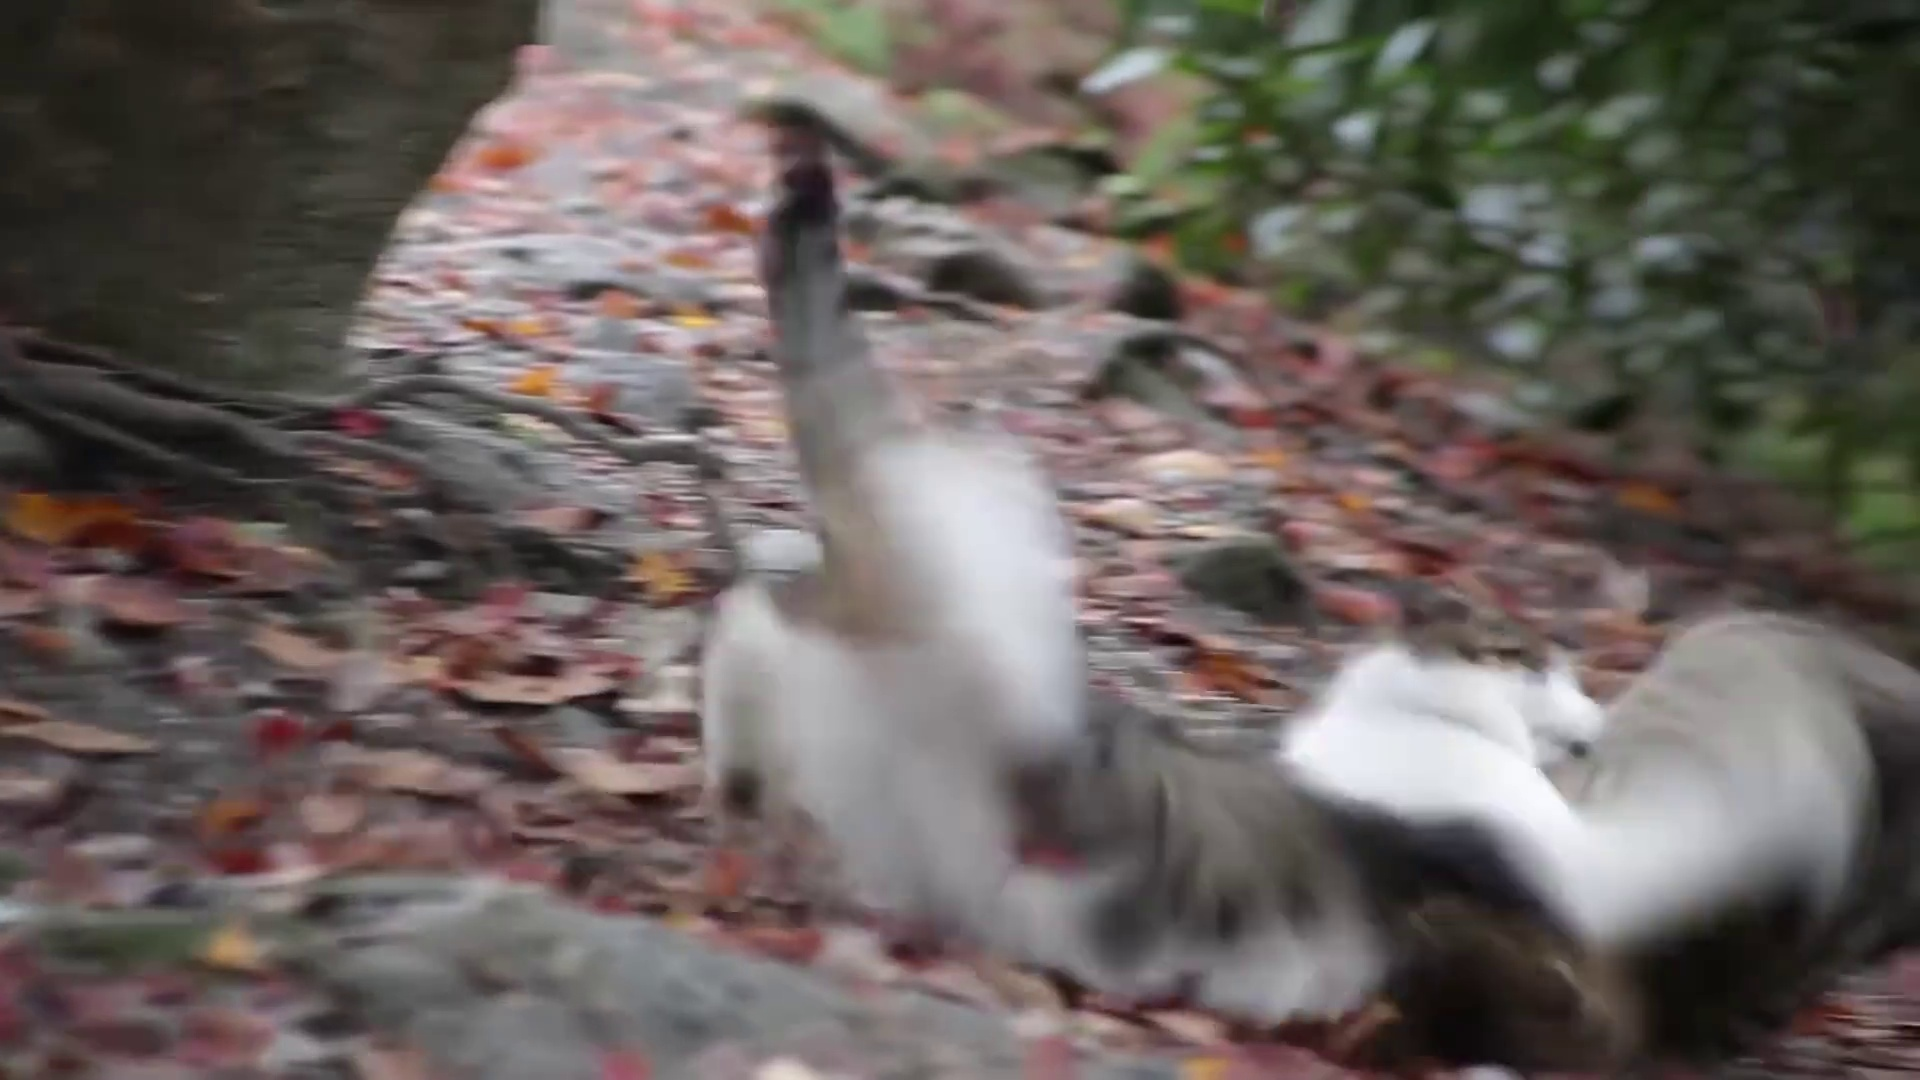black-white: (696, 160, 1600, 1017)
pure black: (1382, 616, 1920, 1080)
